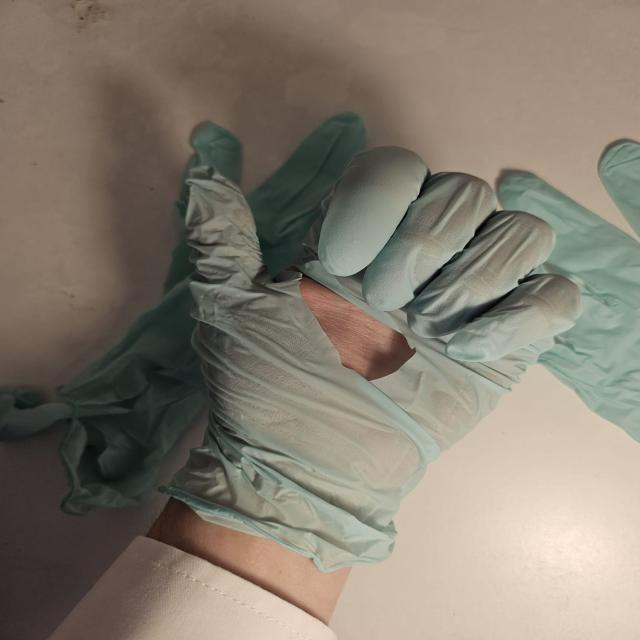gloves_damaged: (165, 143, 592, 573)
